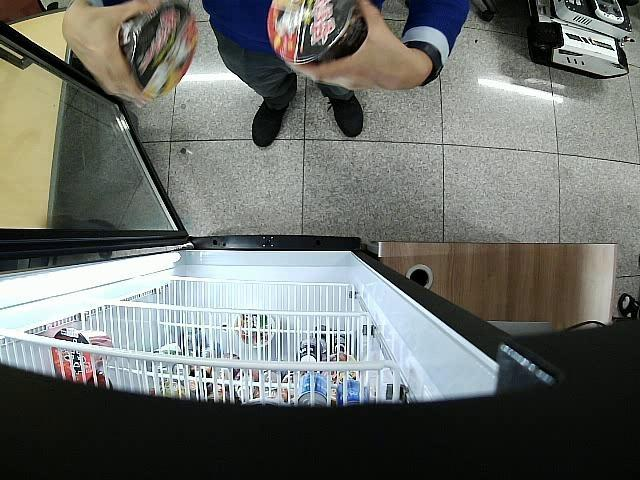07_buldak_L: (118, 0, 196, 98), (268, 0, 368, 63)
